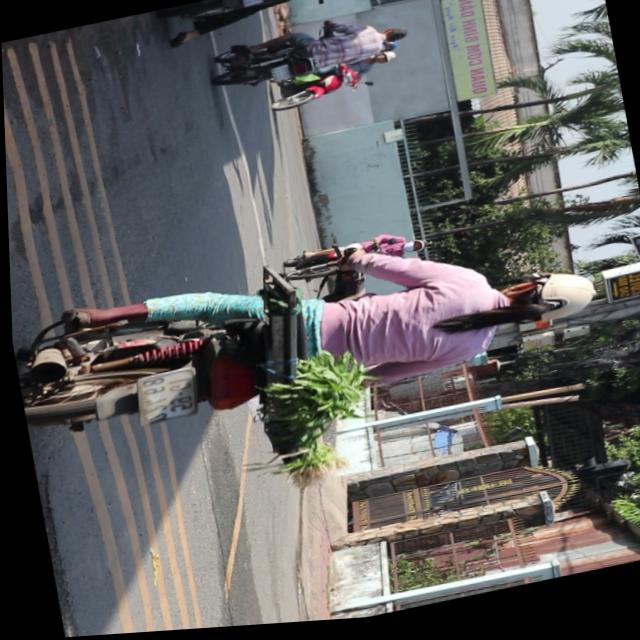helmet: (496, 271, 600, 339)
licenseplate: (7, 200, 612, 486), (208, 12, 418, 101), (161, 0, 398, 47)
motorcyclist: (379, 29, 412, 52)
nohelmet: (131, 368, 200, 427), (271, 67, 291, 86), (243, 0, 266, 10)
